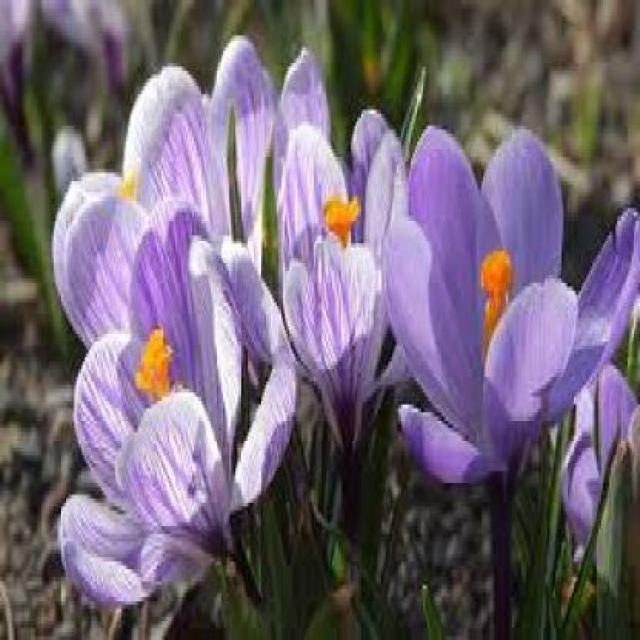Flower: (58, 205, 297, 622), (394, 121, 640, 468), (245, 134, 413, 489)
